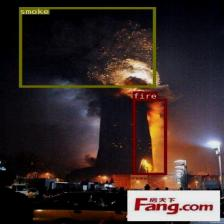fire: (132, 99, 166, 174)
smoke: (19, 7, 155, 87)
